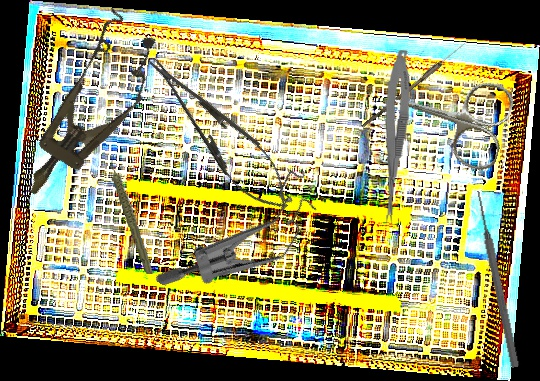Handpiece: (109, 153, 154, 277)
Iris Scissors: (382, 57, 518, 175)
Micro Scissor: (378, 48, 414, 229)
Needle Holder: (134, 43, 305, 224)
Pusher: (472, 189, 522, 369)
Speculum: (0, 7, 175, 215), (153, 134, 332, 334)
Surgical Spoon: (361, 37, 470, 131)
